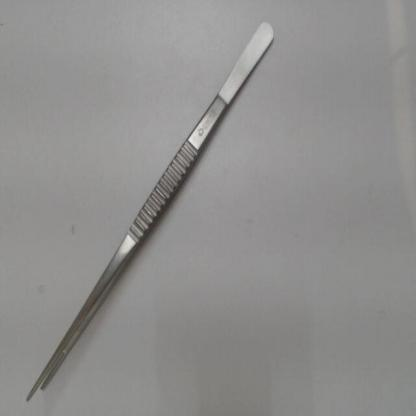DeBakey Dissector: (15, 11, 292, 412)
